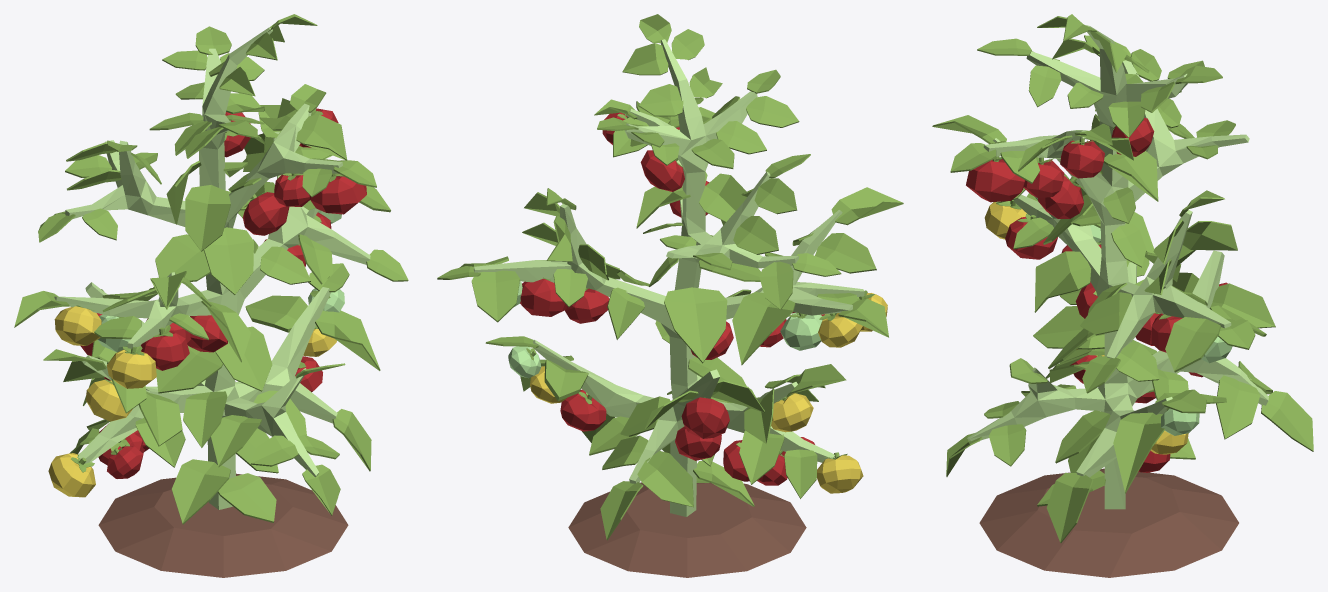
Rendered from TomatoStage4_Import.fbx.
3 renders of one model, left to right at view 1: azimuth 30°, elevation 25°; view 2: azimuth 150°, elevation 25°; view 3: azimuth 270°, elevation 25°, orthographic. The views are drawn at different scales.
Visible parts, largest first — view 1: Cylinder.006, Tree, Cube.001, Sphere.015, Sphere.014, Sphere.012; view 2: Cylinder.006, Tree, Cube.001, Sphere.015, Sphere.014, Sphere.012; view 3: Cylinder.006, Tree, Cube.001, Sphere.015, Sphere.014, Sphere.012.
Part boxes in pixels (left/top/right/bottom): Cylinder.006: left=14, top=14, right=408, bottom=524; Tree: left=54, top=27, right=370, bottom=509; Cube.001: left=98, top=473, right=348, bottom=577; Sphere.015: left=80, top=108, right=366, bottom=478; Sphere.014: left=48, top=306, right=336, bottom=497; Sphere.012: left=97, top=210, right=344, bottom=352; Cylinder.006: left=437, top=14, right=903, bottom=540; Tree: left=473, top=39, right=864, bottom=516; Cube.001: left=568, top=482, right=806, bottom=577; Sphere.015: left=520, top=112, right=824, bottom=485; Sphere.014: left=530, top=293, right=887, bottom=493; Sphere.012: left=508, top=281, right=822, bottom=378; Cylinder.006: left=932, top=14, right=1313, bottom=542; Tree: left=967, top=25, right=1268, bottom=509; Cube.001: left=979, top=468, right=1238, bottom=577; Sphere.015: left=966, top=118, right=1227, bottom=472; Sphere.014: left=984, top=202, right=1188, bottom=454; Sphere.012: left=1090, top=225, right=1232, bottom=435.
Size of the model in its own units: 16012 by 12429 by 19131.
